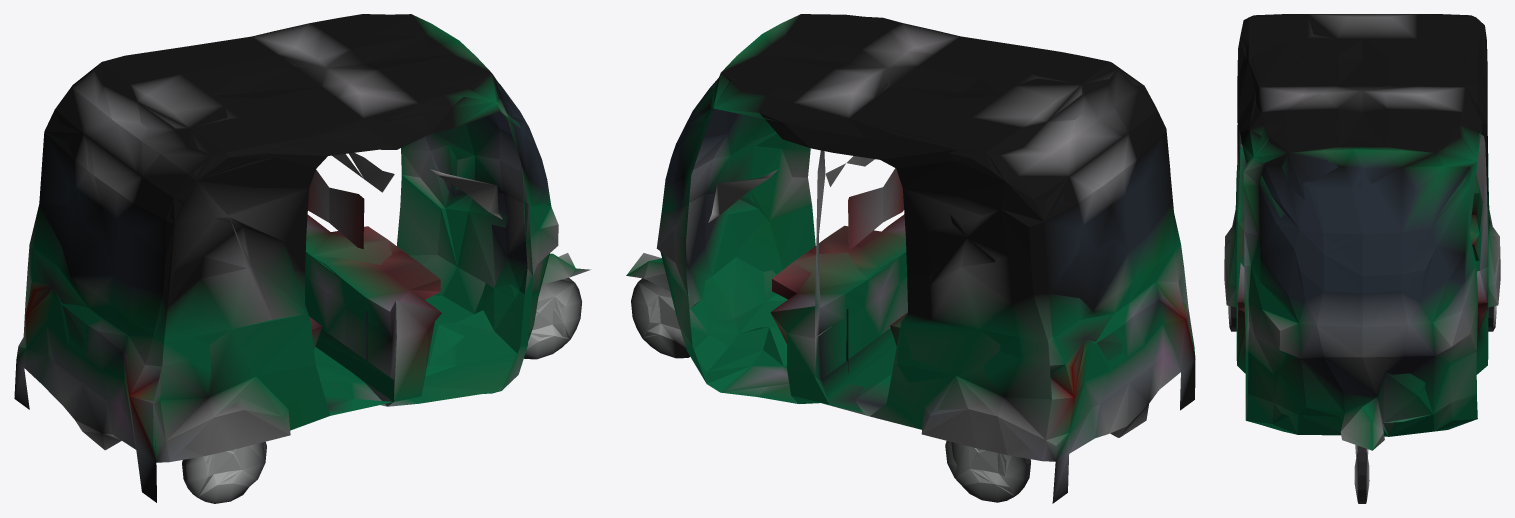
Rendered from cng.glb.
3 renders of one model, left to right at view 1: azimuth 30°, elevation 25°; view 2: azimuth 150°, elevation 25°; view 3: azimuth 270°, elevation 25°, orthographic. The views are drawn at different scales.
Visible parts, largest first — view 1: hi, lo; view 2: hi, lo; view 3: hi, lo.
Part boxes in pixels (x1=…): hi: x1=14, y1=14, x2=590, y2=503; lo: x1=26, y1=14, x2=574, y2=484; hi: x1=626, y1=14, x2=1195, y2=503; lo: x1=638, y1=16, x2=1195, y2=492; hi: x1=1224, y1=14, x2=1500, y2=503; lo: x1=1225, y1=14, x2=1499, y2=488.
Bounding box in the file's own units: 2.66 × 1.73 × 1.37.
